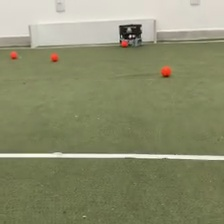ball: (160, 64, 171, 77), (9, 49, 18, 59), (50, 53, 59, 61), (120, 39, 128, 47)
goal: (28, 16, 157, 50)
robot: (118, 21, 143, 47)
